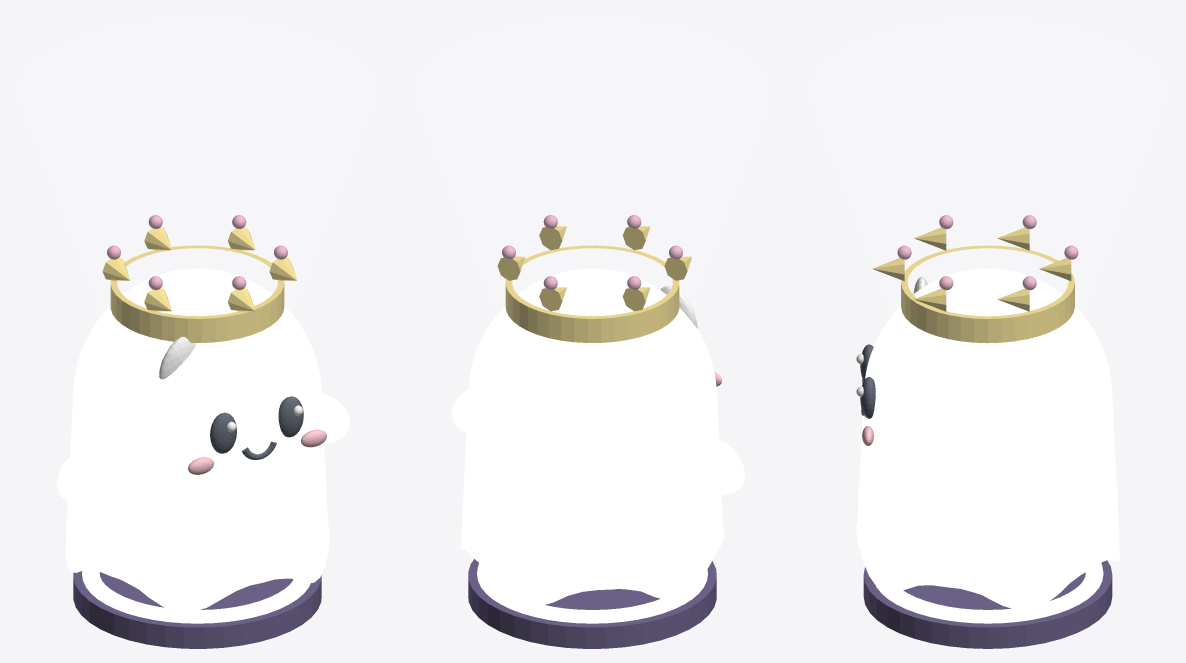
Rendered from ghost-holo-3.glb.
3 views of the same model, side by side, from view 1: azimuth 30°, elevation 25°; view 2: azimuth 150°, elevation 25°; view 3: azimuth 270°, elevation 25° (orthographic).
Parts seen in each view (by area): view 1: dancer, holo_base, light_holo_ring; view 2: dancer, holo_base, light_holo_ring; view 3: dancer, holo_base, light_holo_ring.
Part boxes in pixels (x1,y1,x2,y2): dancer: [56, 215, 350, 612]; holo_base: [73, 571, 321, 648]; light_holo_ring: [82, 570, 310, 623]; dancer: [451, 215, 745, 606]; holo_base: [468, 559, 716, 648]; light_holo_ring: [477, 563, 707, 623]; dancer: [856, 215, 1119, 610]; holo_base: [863, 560, 1112, 648]; light_holo_ring: [876, 563, 1103, 623].
Bounding box in the file's own units: 1.24 × 1.88 × 1.24.
